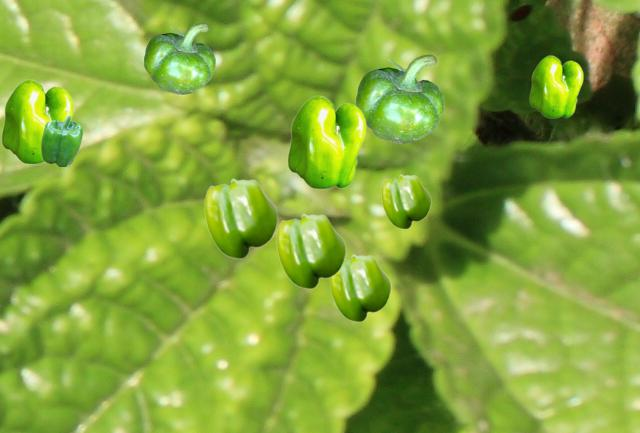bell_pepper: (356, 54, 443, 142), (287, 95, 365, 188), (1, 79, 72, 163), (204, 178, 277, 258), (276, 213, 345, 288), (144, 22, 214, 93), (329, 254, 390, 321), (529, 55, 582, 117), (381, 174, 430, 228), (41, 116, 81, 165)
